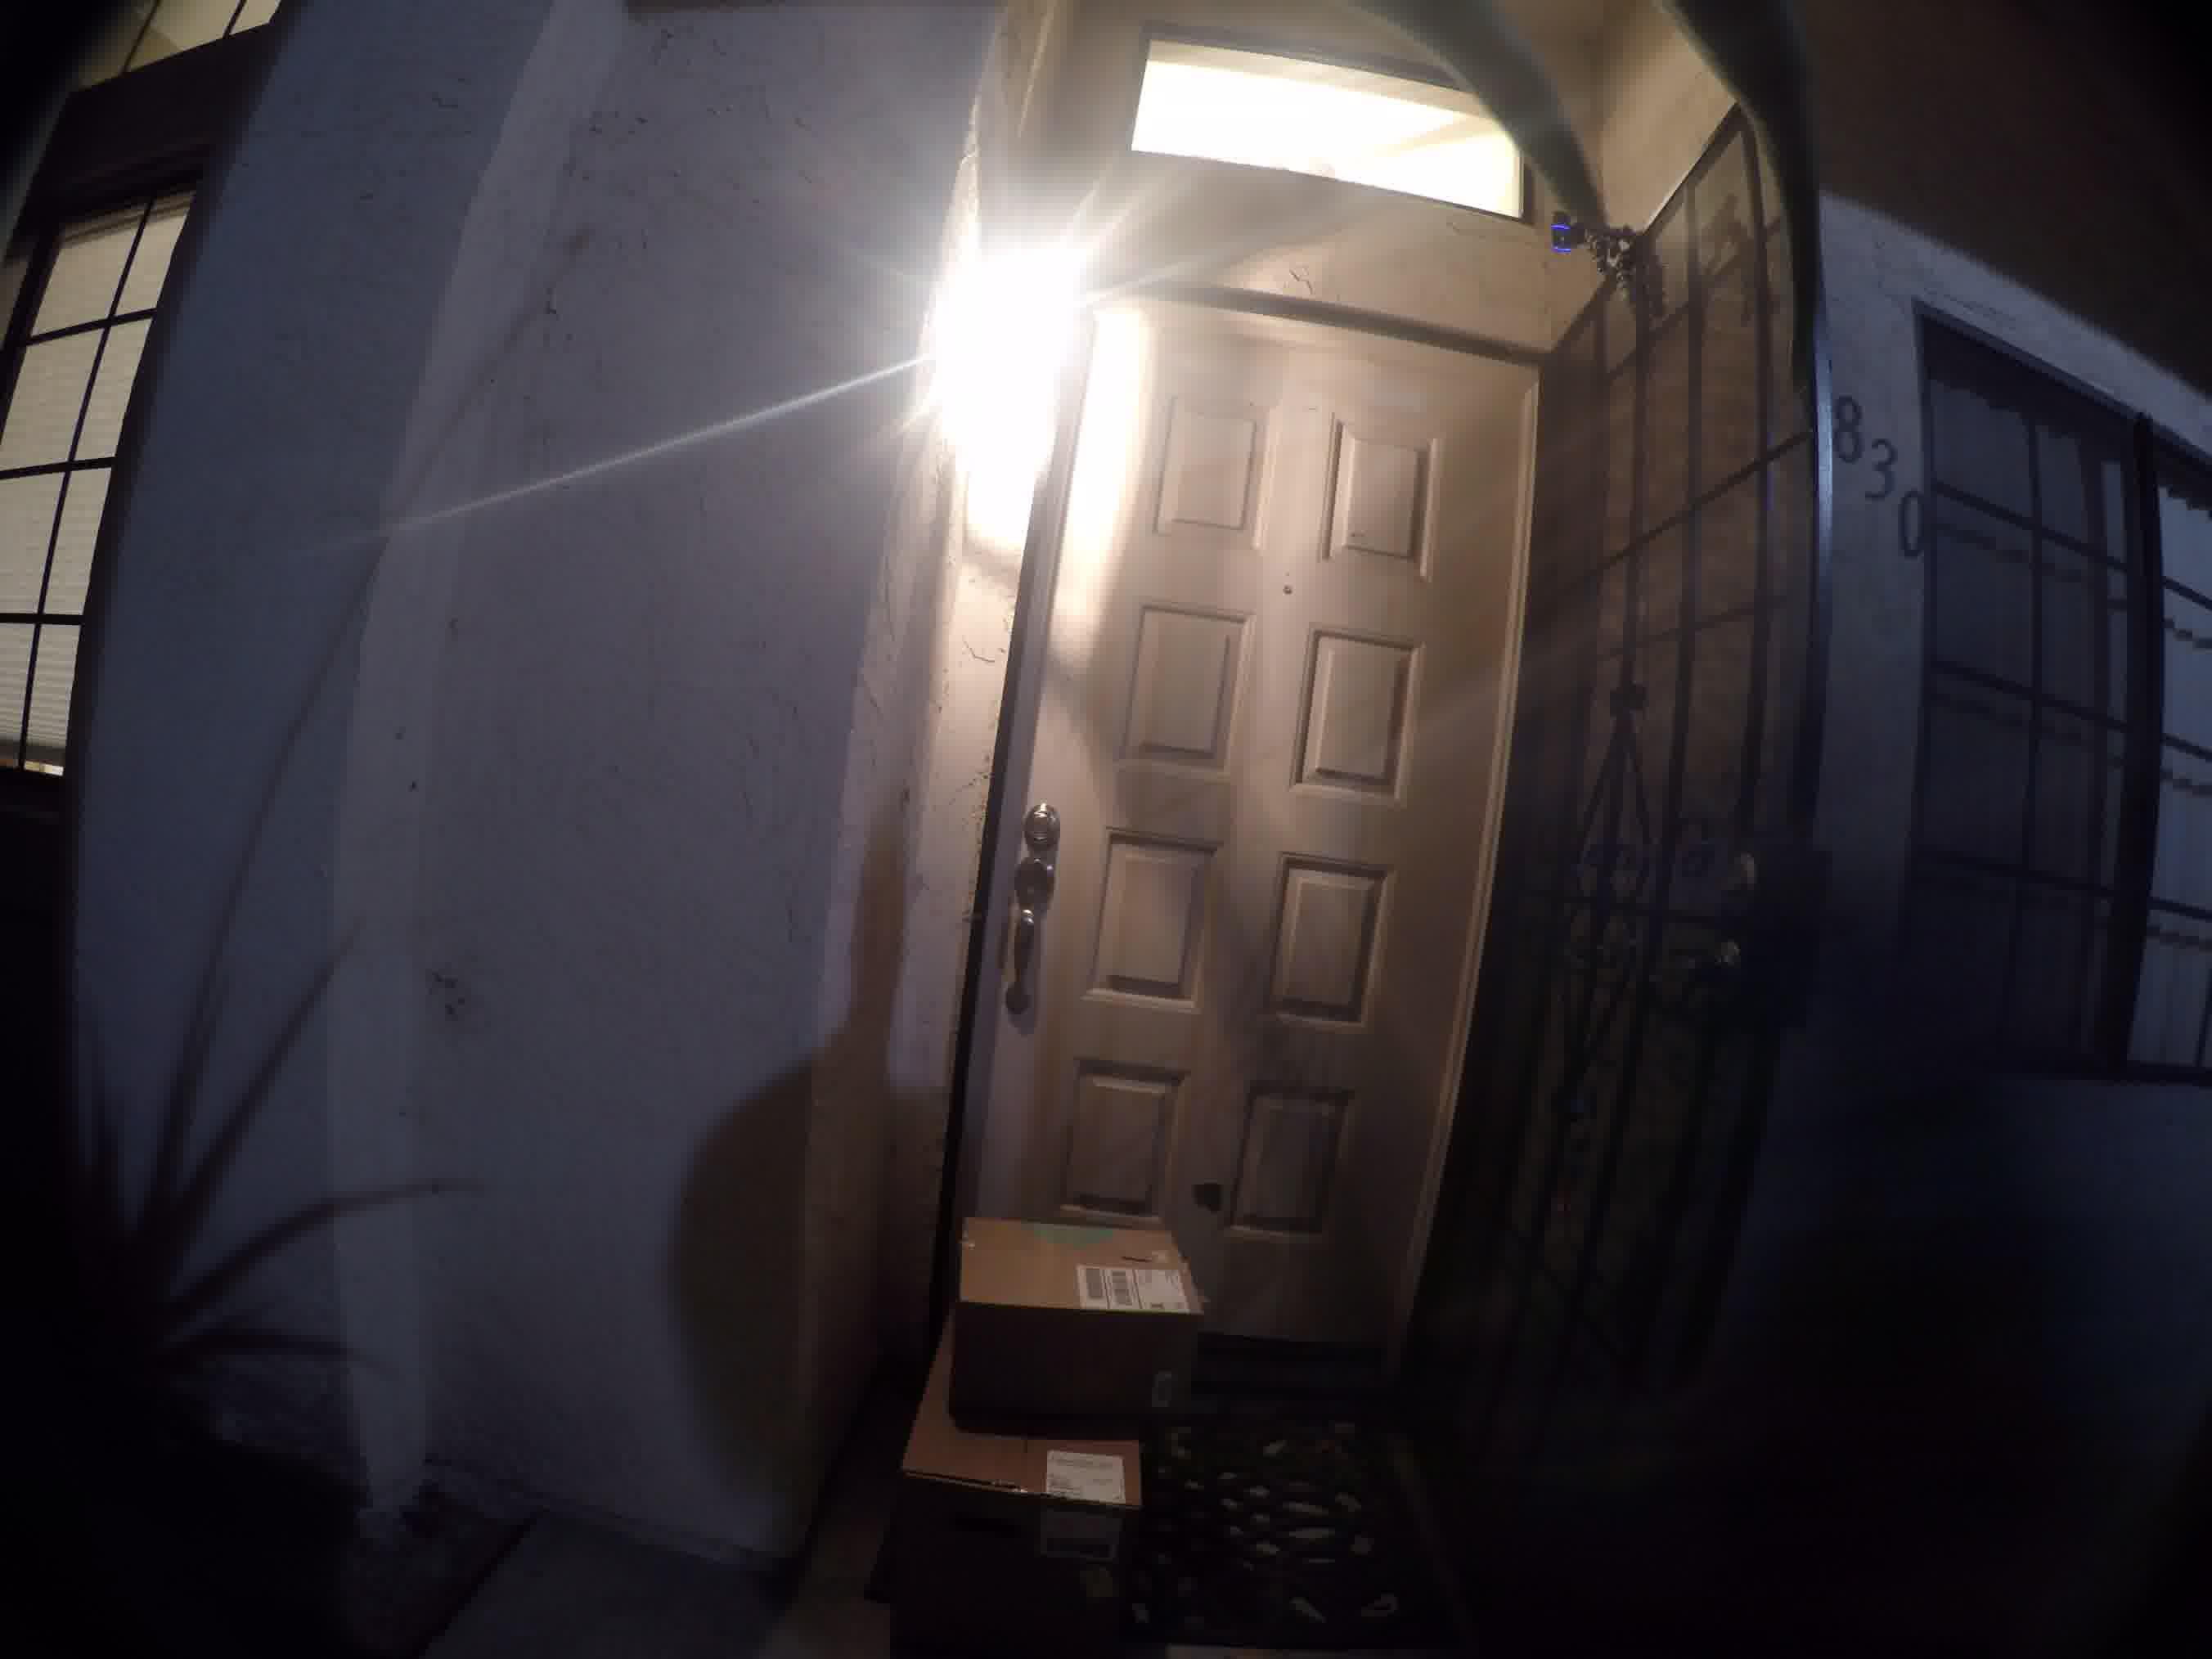box: (880, 1319, 1157, 1629), (948, 1208, 1209, 1448)
